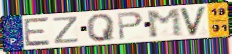E: (24, 16, 52, 48)
M: (145, 8, 185, 40)
P: (116, 11, 145, 42)
Q: (85, 12, 117, 43)
V: (178, 5, 209, 37)
Z: (52, 15, 81, 45)
